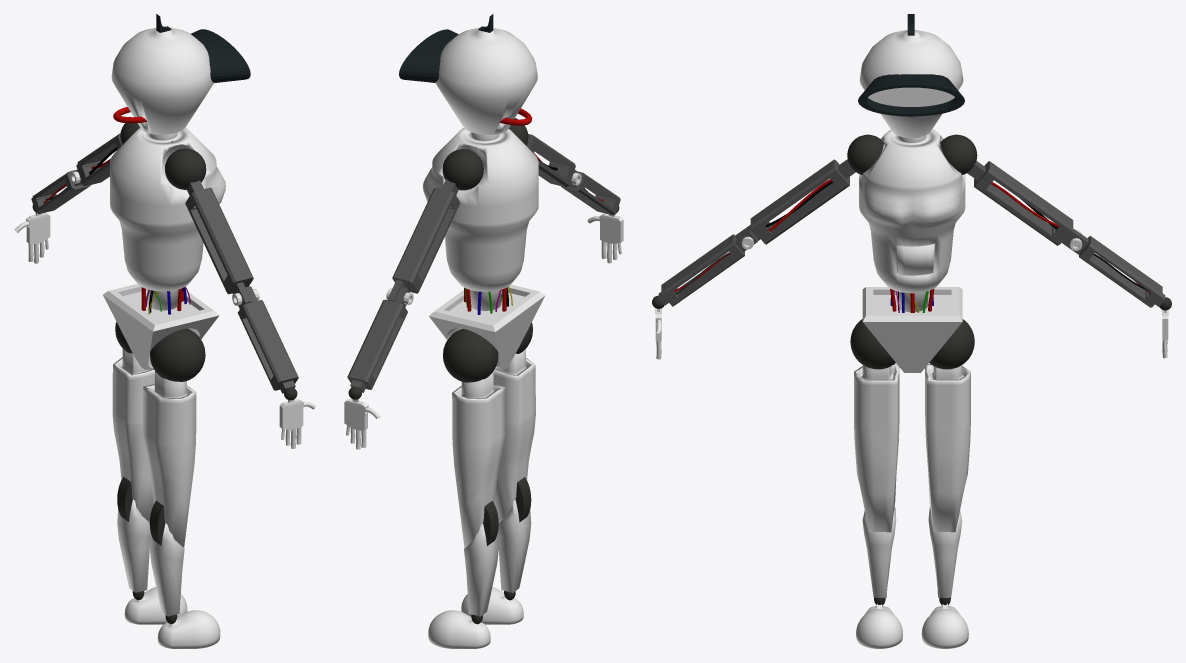
Rendered from femm_texturizada_lista_para_posar.fbx.
3 views of the same model, side by side, from view 1: azimuth 30°, elevation 25°; view 2: azimuth 150°, elevation 25°; view 3: azimuth 270°, elevation 25° (orthographic).
Parts seen in each view (by area): view 1: tronco and chest, Cylinder.002, Cube.004, Cube.017, Cube.008, Cube.010, Cube.011, Sphere.002, Cube, Cube.018, Sphere.004, Cylinder.003 (+8 smaller); view 2: tronco and chest, Cylinder.002, Cube.017, Cube.004, Cube.008, Cube.016, Cube.015, Sphere.002, Cube.018, Cube, Sphere.006, Cylinder.003 (+8 smaller); view 3: tronco and chest, Cube.017, Cube.004, Cube.008, Cylinder.002, Cylinder.003, Cube.016, Cube.010, Sphere.002, Cube.011, Cube.015, Sphere.001 (+4 smaller).
Part boxes in pixels (left/top/right/bottom): tronco and chest: left=110, top=127, right=225, bottom=310; Cylinder.002: left=111, top=27, right=213, bottom=134; Cube.004: left=142, top=371, right=196, bottom=547; Cube.017: left=112, top=348, right=154, bottom=522; Cube.008: left=103, top=284, right=219, bottom=369; Cube.010: left=185, top=180, right=253, bottom=308; Cube.011: left=238, top=286, right=298, bottom=393; Sphere.002: left=115, top=322, right=205, bottom=381; Cube: left=149, top=523, right=184, bottom=616; Cube.018: left=117, top=499, right=150, bottom=592; Sphere.004: left=157, top=610, right=220, bottom=648; Cylinder.003: left=191, top=29, right=250, bottom=82; tronco and chest: left=423, top=128, right=538, bottom=310; Cylinder.002: left=435, top=27, right=537, bottom=134; Cube.017: left=452, top=371, right=505, bottom=547; Cube.004: left=493, top=349, right=535, bottom=522; Cube.008: left=429, top=284, right=545, bottom=370; Cube.016: left=387, top=179, right=460, bottom=301; Cube.015: left=347, top=287, right=409, bottom=392; Sphere.002: left=443, top=322, right=532, bottom=382; Cube.018: left=464, top=523, right=498, bottom=616; Cube: left=498, top=500, right=531, bottom=592; Sphere.006: left=428, top=610, right=490, bottom=648; Cylinder.003: left=399, top=29, right=458, bottom=82; tronco and chest: left=859, top=129, right=965, bottom=312; Cube.017: left=925, top=364, right=970, bottom=532; Cube.004: left=854, top=364, right=899, bottom=532; Cube.008: left=862, top=287, right=962, bottom=372; Cylinder.002: left=859, top=30, right=963, bottom=138; Cylinder.003: left=858, top=74, right=964, bottom=116; Cube.016: left=967, top=161, right=1088, bottom=254; Cube.010: left=735, top=159, right=855, bottom=244; Sphere.002: left=850, top=319, right=974, bottom=369; Cube.011: left=658, top=230, right=757, bottom=306; Cube.015: left=1073, top=228, right=1165, bottom=307; Sphere.001: left=847, top=134, right=977, bottom=174.
Size of the model in its own units: 231 by 1275 by 979.
